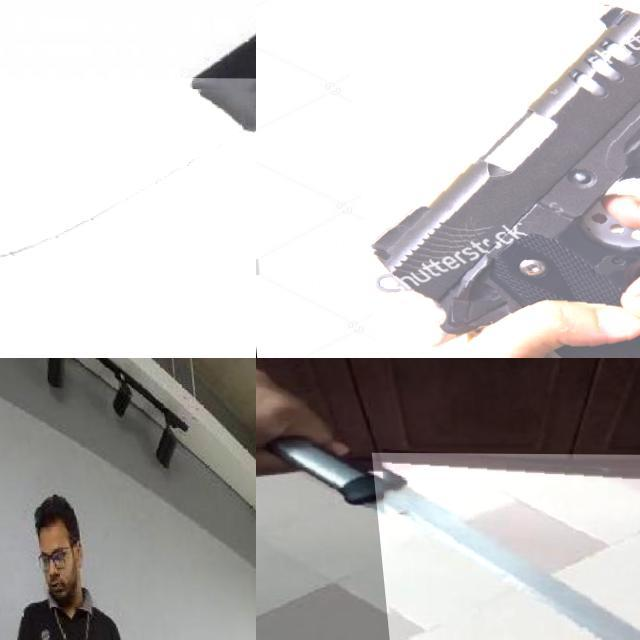-: (0, 76, 256, 358), (367, 452, 640, 640)
gun-knife-thesis - v11 Yolov5 augmented: (341, 0, 640, 358)
